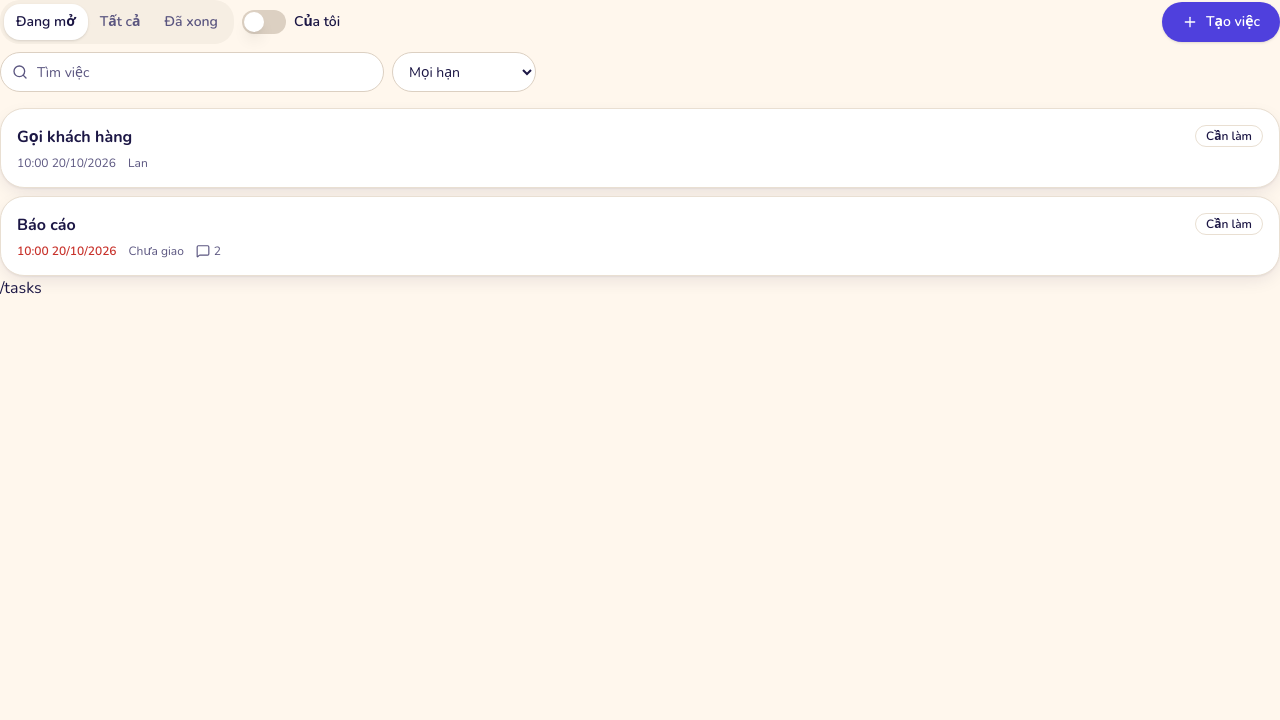
Test: TasksPage › tạo việc: tiêu đề + ưu tiên + hạn + người làm → mở chi tiết việc mới
Click the button with test id "tasks-new" at point(1221, 22), box [1162,2,1279,42]
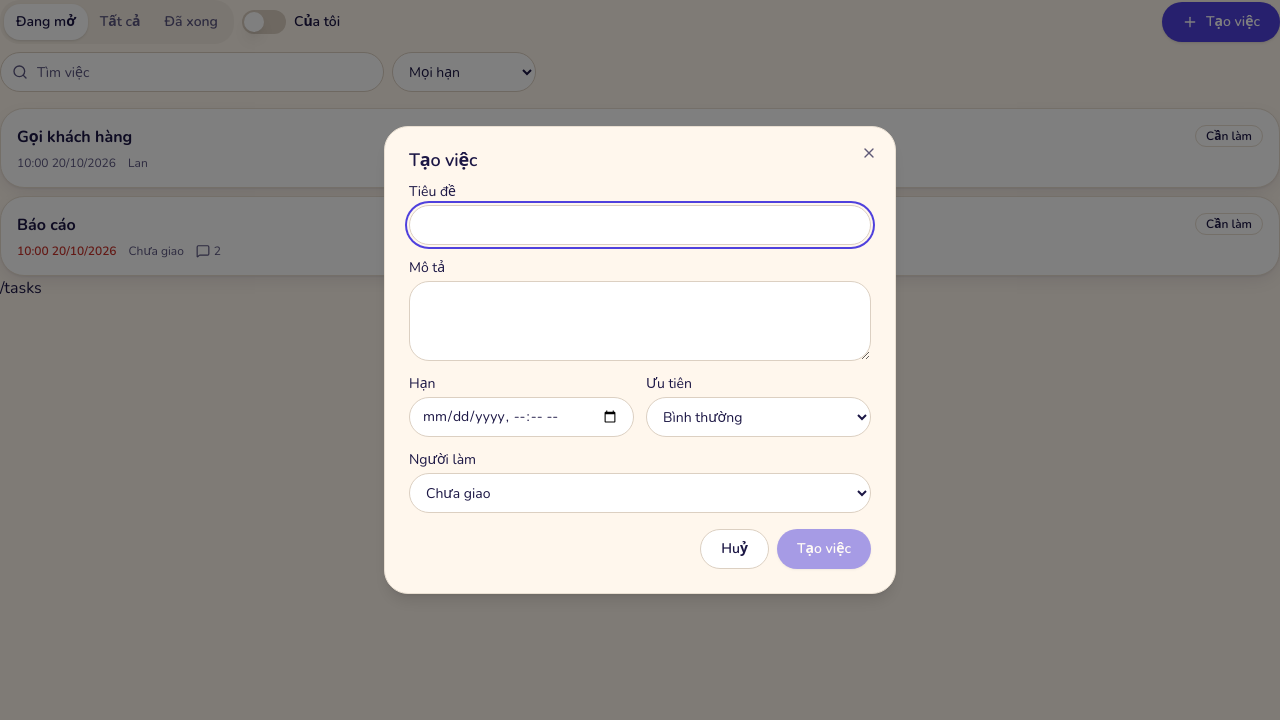
expect the button with test id "dialog-submit" is disabled: met, box [777,529,871,569]
Type " Việc mới " into the field with test id "task-form-title" at point(640, 225), box [409,205,871,245]
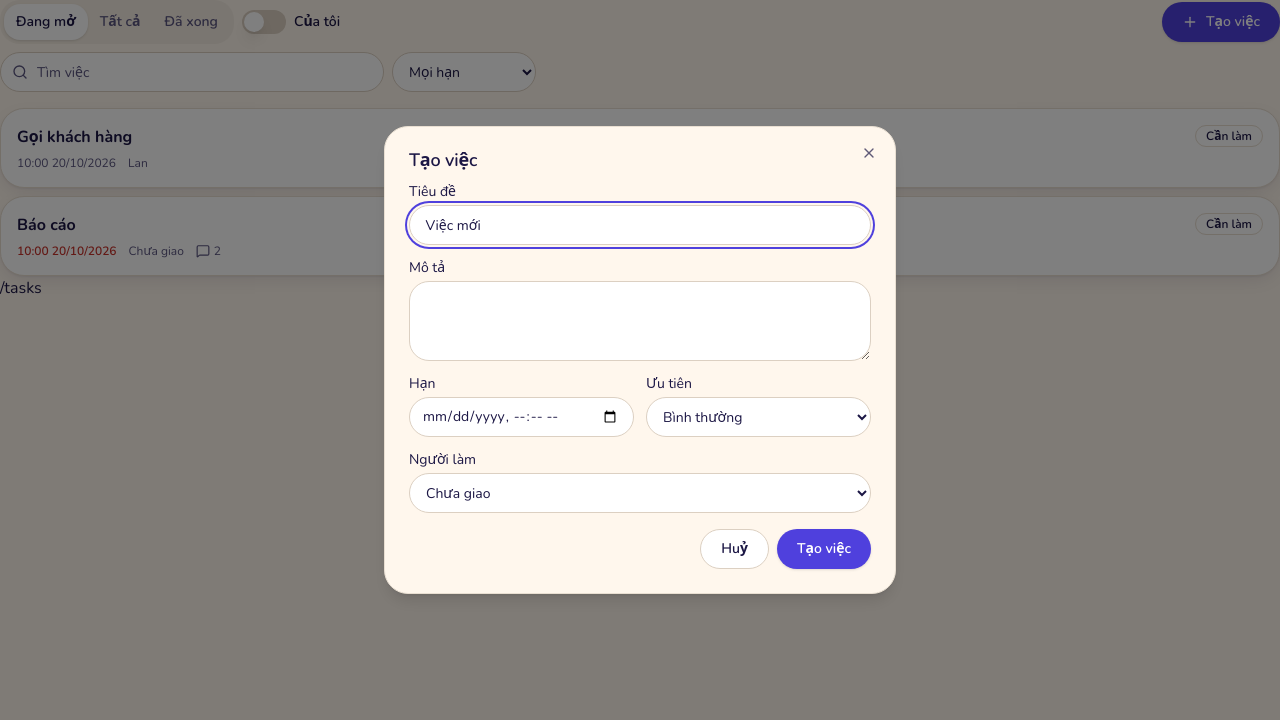
Select "Khẩn cấp" in the dropdown with test id "task-form-priority" at point(758, 417), box [646,397,871,437]
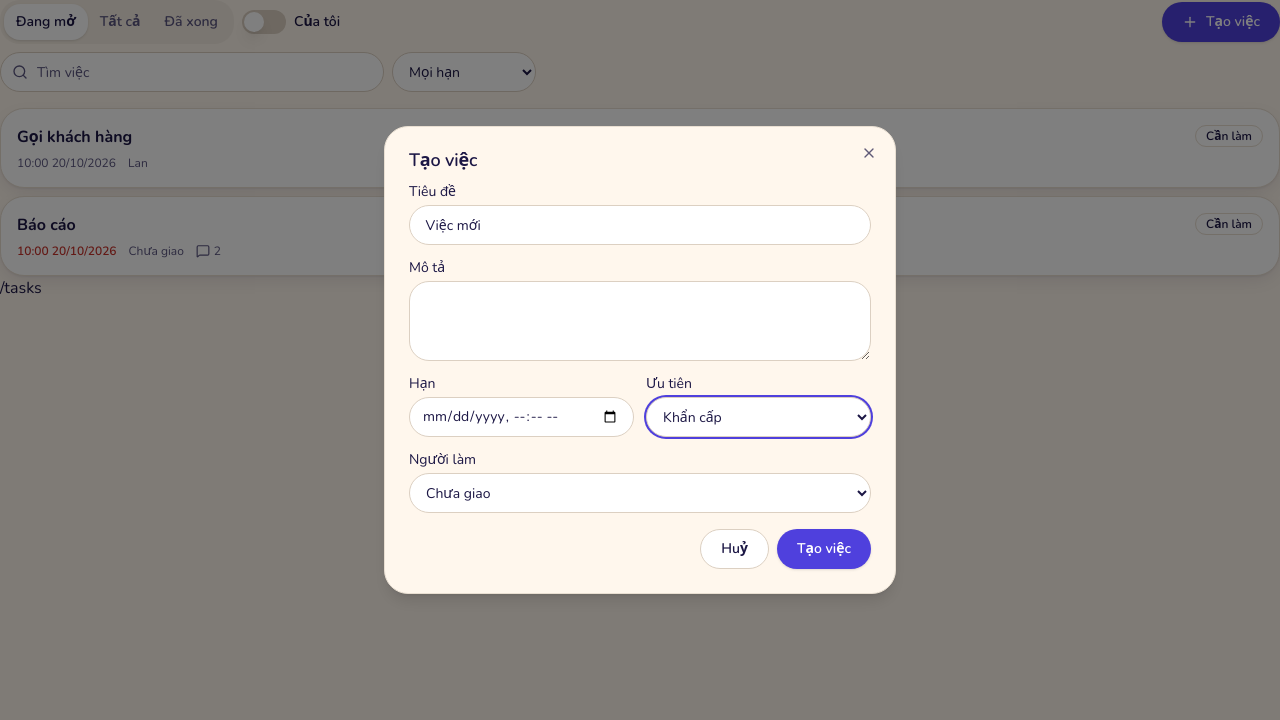
Select "Lan" in the dropdown with test id "task-form-assignee" at point(640, 493), box [409,473,871,513]
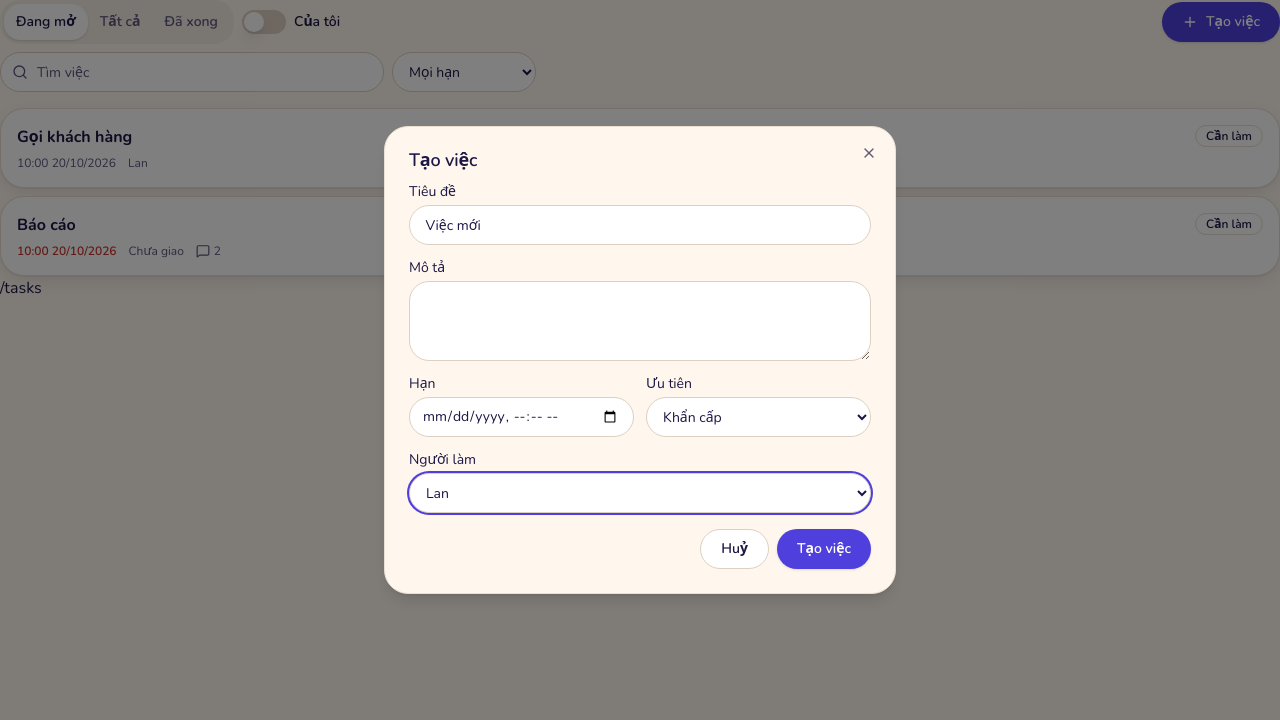
Click the button with test id "dialog-submit" at point(824, 549), box [777,529,871,569]
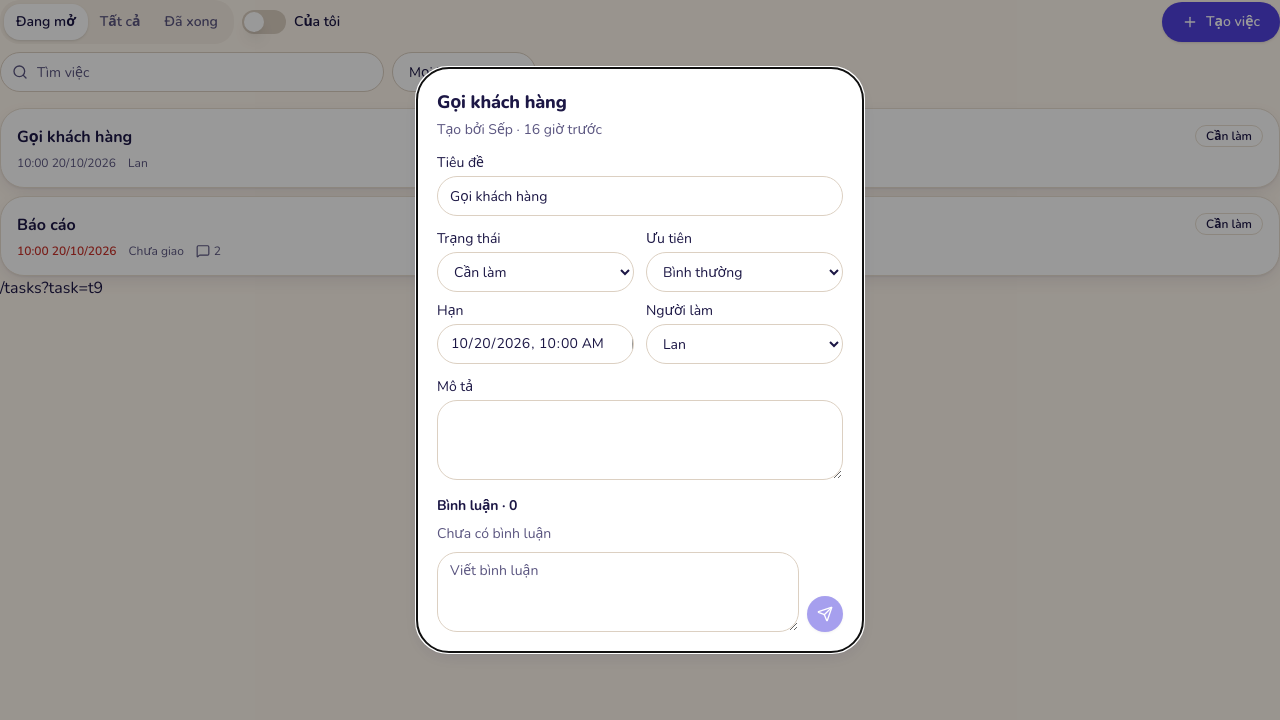
expect the text with test id "where" shows "task=t9": met, box [0,277,103,299]
